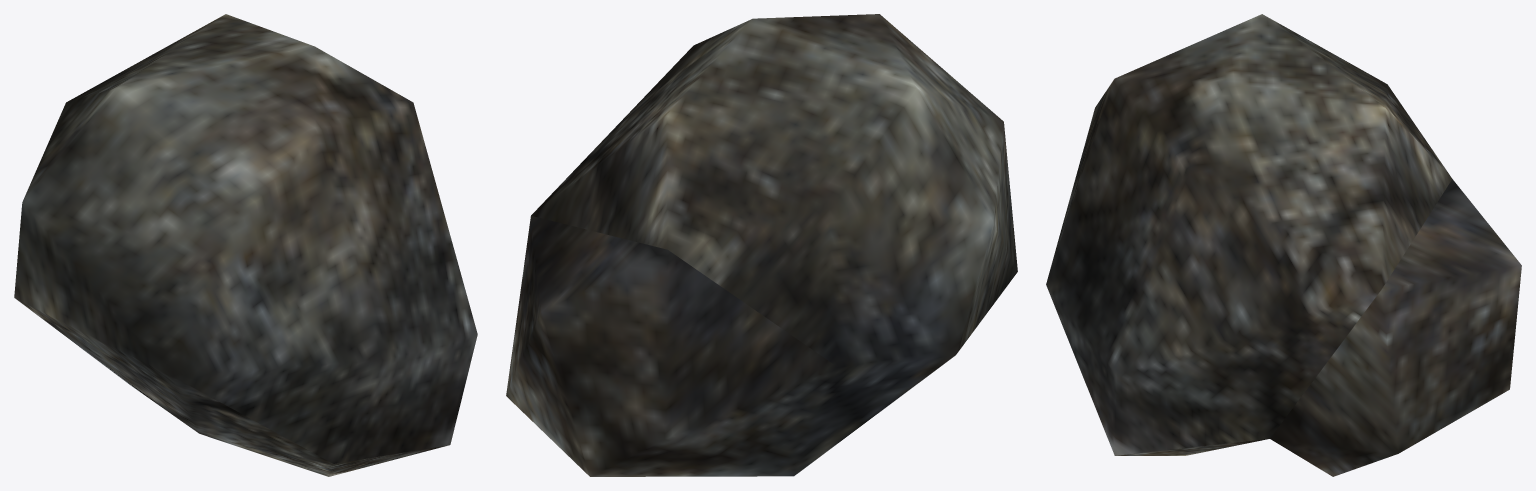
File: Rock4B.fbx
3 renders of one model, left to right at view 1: azimuth 30°, elevation 25°; view 2: azimuth 150°, elevation 25°; view 3: azimuth 270°, elevation 25°, orthographic. The views are drawn at different scales.
Parts seen in each view (by area): view 1: polySurface7; view 2: polySurface7; view 3: polySurface7.
Part boxes in pixels (x1,y1,x2,y2): polySurface7: [14, 14, 477, 476]; polySurface7: [506, 14, 1017, 476]; polySurface7: [1046, 14, 1521, 476].
Bounding box in the file's own units: 3.89 × 3.74 × 4.28.
